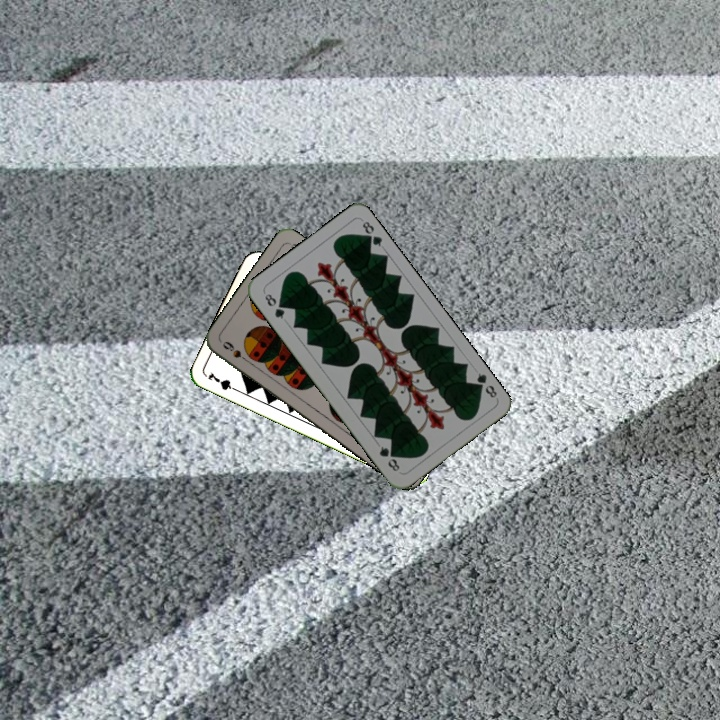G7: (204, 368, 242, 395)
G8: (470, 369, 500, 401), (261, 289, 287, 322)
S9: (218, 337, 254, 366)
